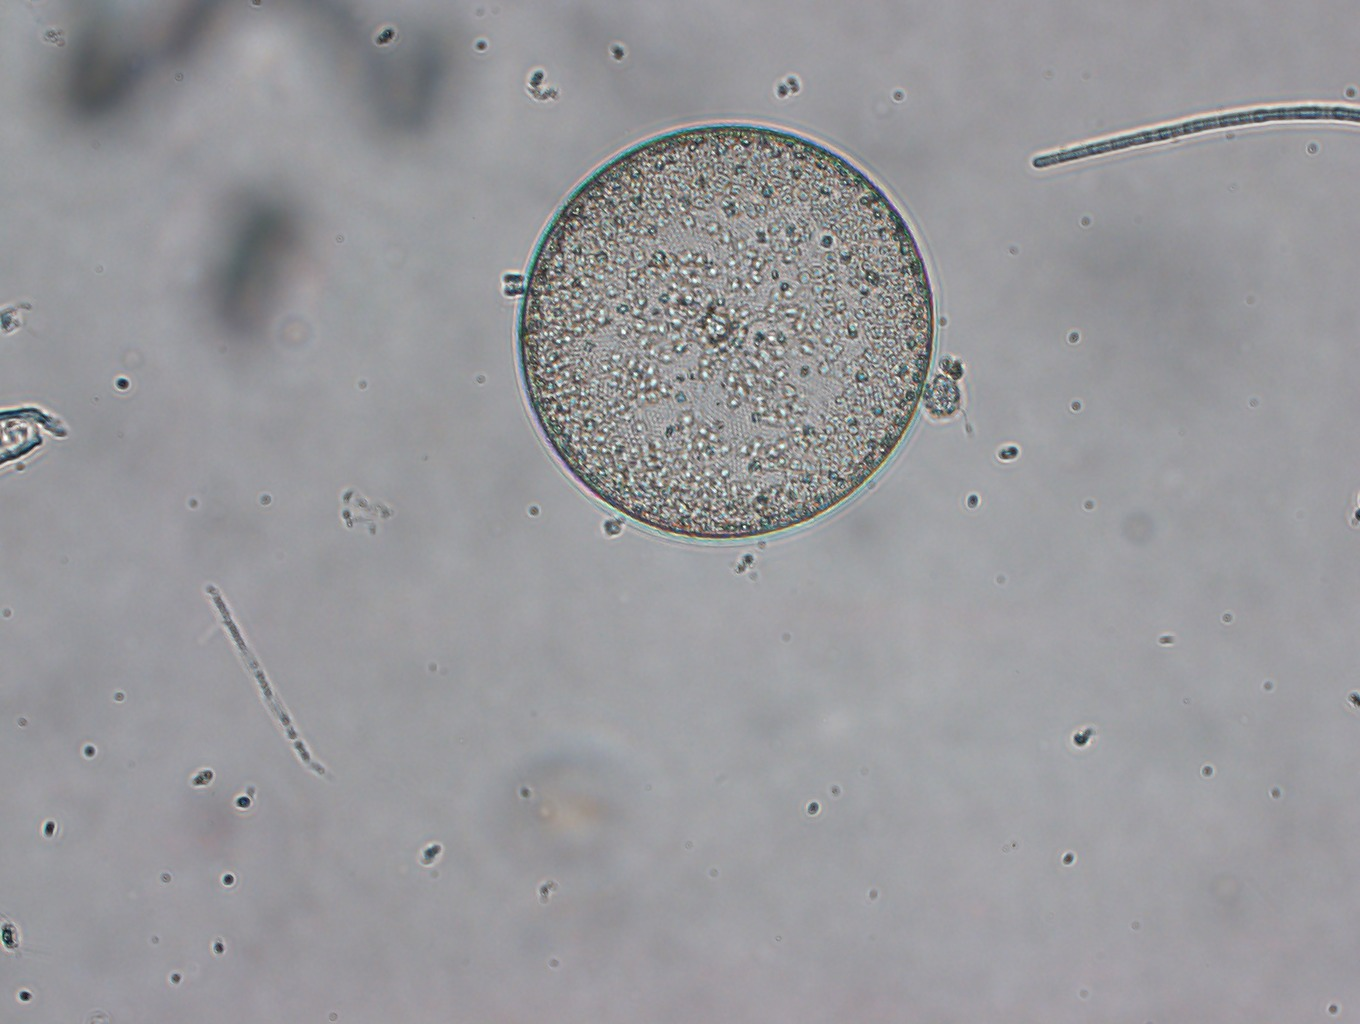coscinodiscus: (517, 119, 937, 540)
